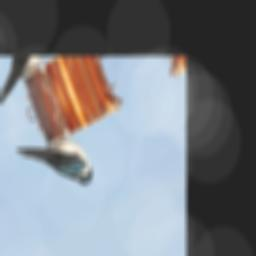Swallow: (14, 116, 96, 213)
